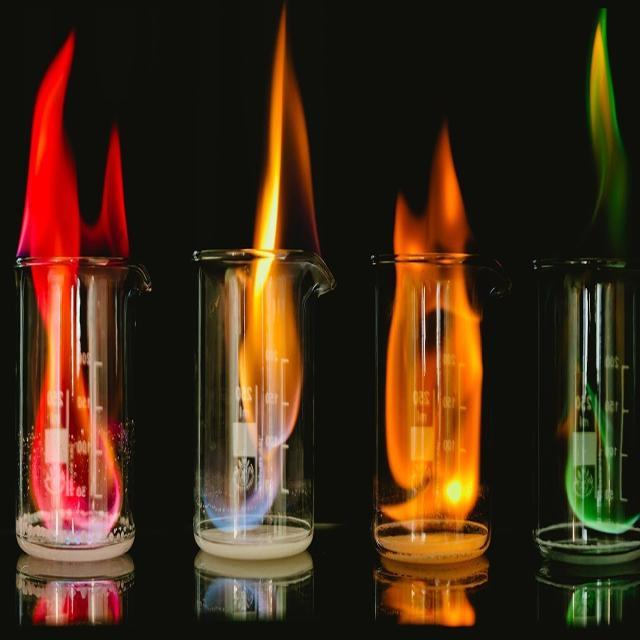Fire: (18, 39, 131, 256), (239, 0, 328, 256), (388, 118, 473, 249), (590, 3, 630, 254)
